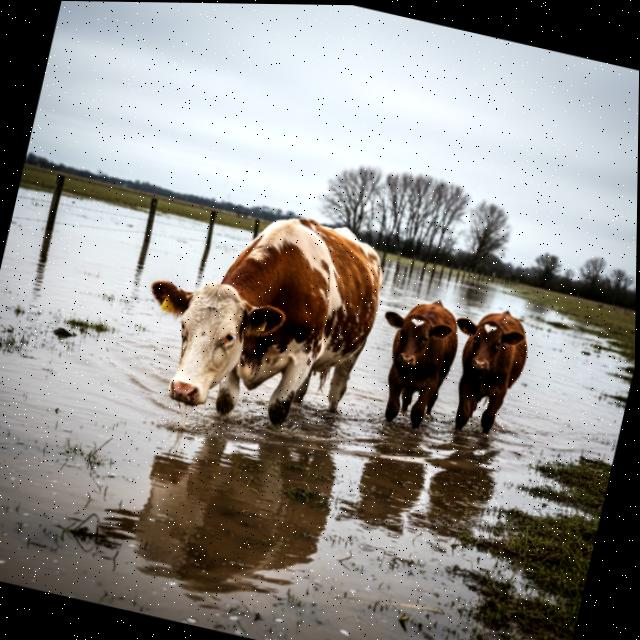cow: (116, 182, 404, 457), (353, 274, 472, 453), (429, 289, 541, 449)
